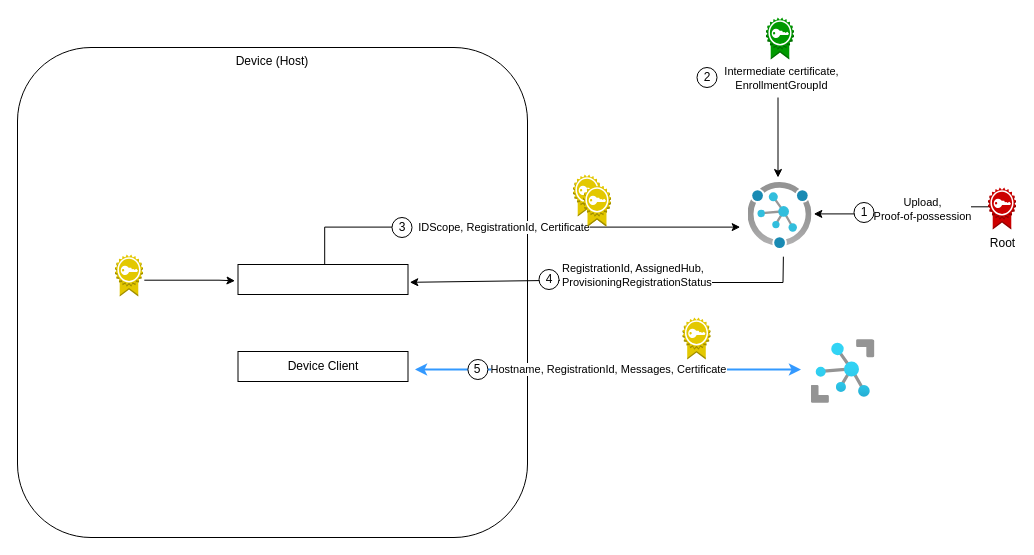
Some shapes in this 1034 by 555 pixel diagram are drawn without their labels. The shapes that lost their labels are listed below. From the top down, each one's centre as x and y in pixels, then its label:
At [780,215]: "DPS".
At [128,275]: "Device certificate".
At [322,279]: "Device Provisioning Client".
At [842,371]: "Hub".
